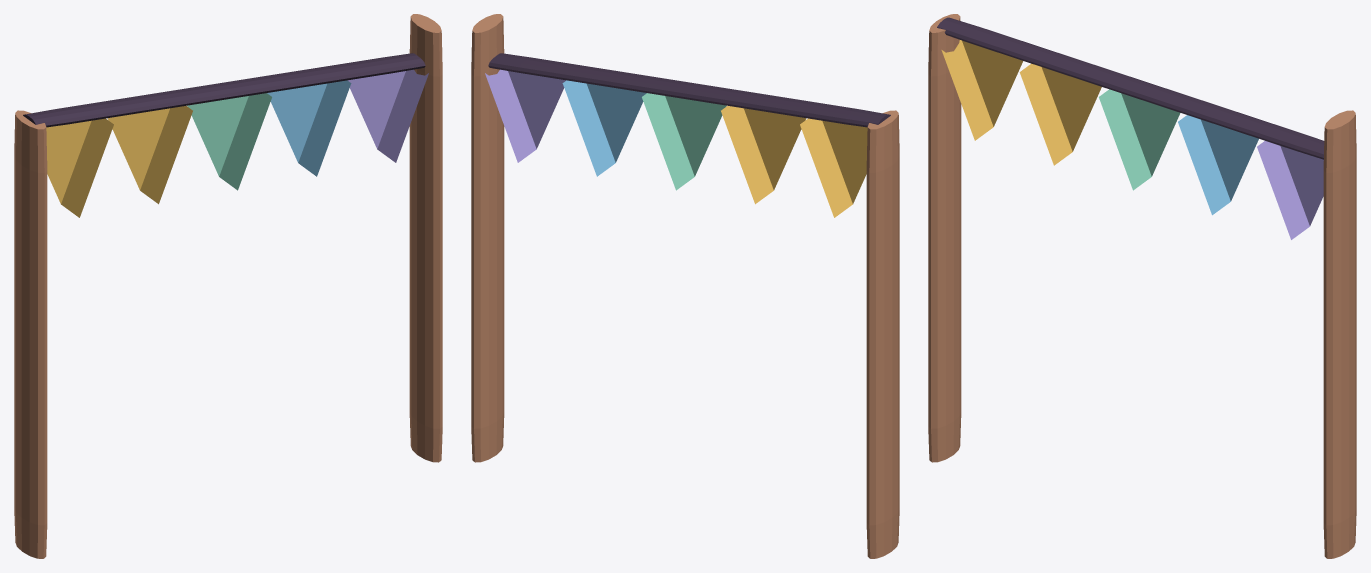
Rendered from market_banner.glb.
3 renders of one model, left to right at view 1: azimuth 30°, elevation 25°; view 2: azimuth 150°, elevation 25°; view 3: azimuth 330°, elevation 25°, orthographic.
Parts seen in each view (by area): view 1: model; view 2: model; view 3: model.
Boxes of the visible parts, box(x1,y1,x2,y2) form: model: box(14, 14, 442, 558); model: box(471, 14, 899, 558); model: box(928, 14, 1356, 558).
Bounding box in the file's own units: 2.6 × 2.6 × 0.3.
